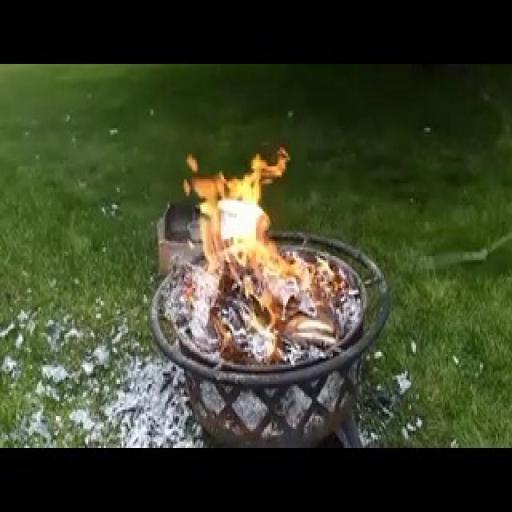smoke: (183, 134, 342, 365)
